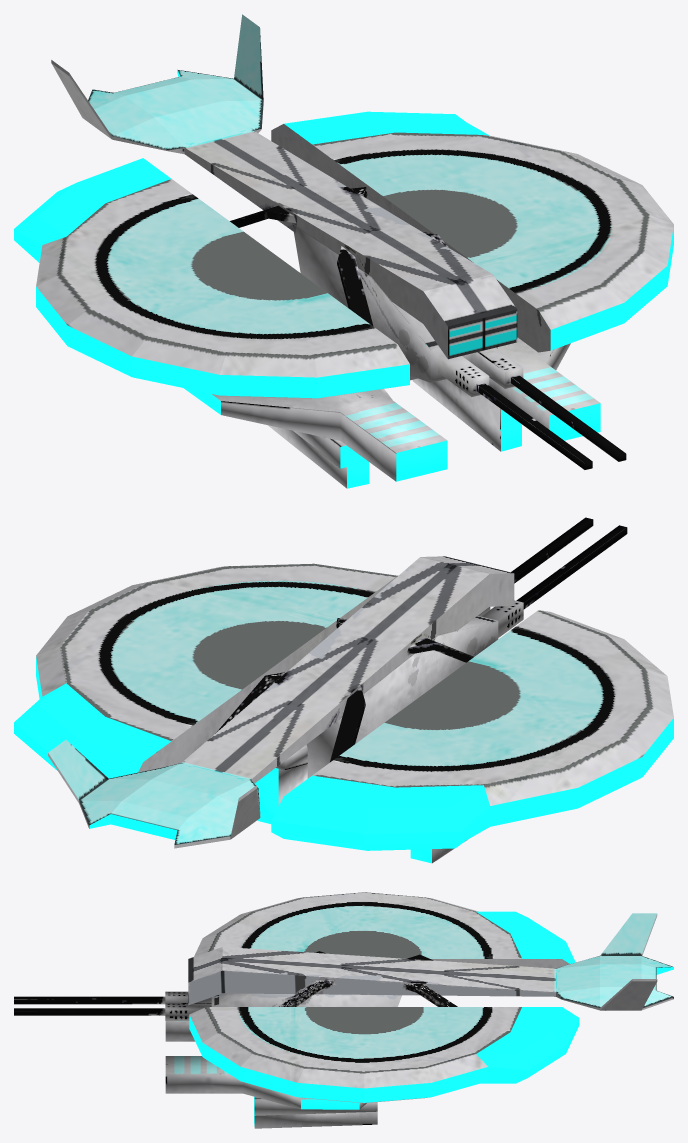
The model's file is BossDrone.fbx.
3 renders of one model, top to bottom at view 1: azimuth 30°, elevation 25°; view 2: azimuth 150°, elevation 25°; view 3: azimuth 270°, elevation 25°, orthographic. The views are drawn at different scales.
Parts seen in each view (by area): view 1: Enforcer_LOD0; view 2: Enforcer_LOD0; view 3: Enforcer_LOD0.
Boxes of the visible parts, box(x1,y1,x2,y2) form: Enforcer_LOD0: box(14, 14, 673, 488); Enforcer_LOD0: box(14, 517, 673, 863); Enforcer_LOD0: box(14, 892, 673, 1128).
Size of what is drawn, in the model's own units: 596 by 218 by 848.
Materials: 2 (1 with a texture image).
